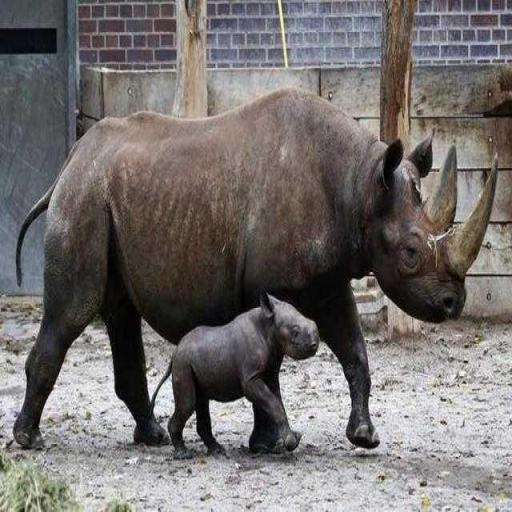Rhino: (12, 85, 498, 454), (148, 287, 319, 457)
